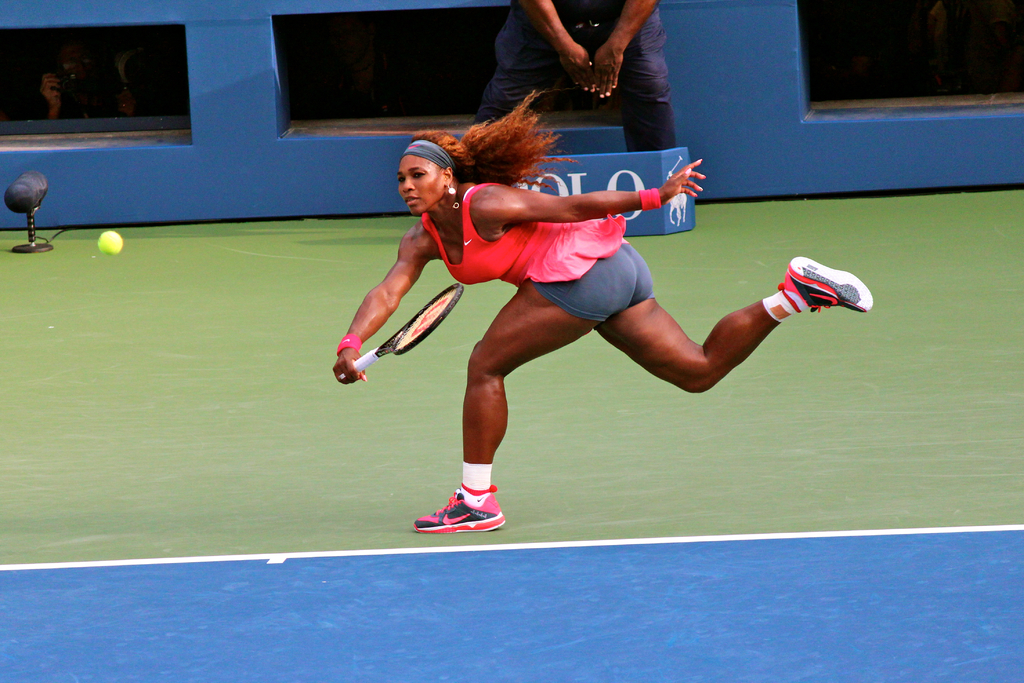Footwear: (780, 259, 872, 320), (415, 484, 502, 526)
